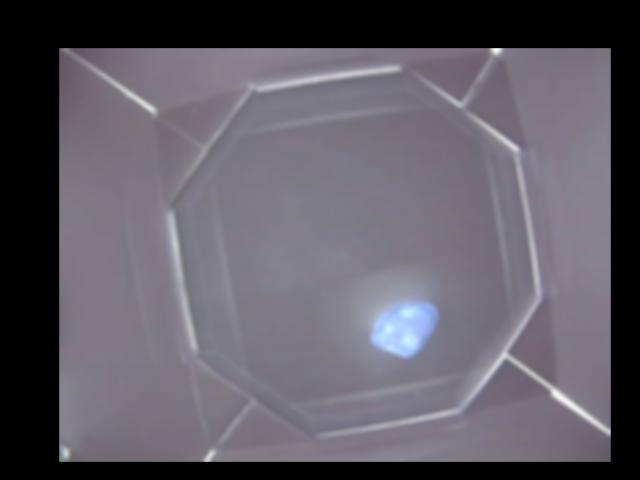Pebble: (371, 300, 437, 359)
